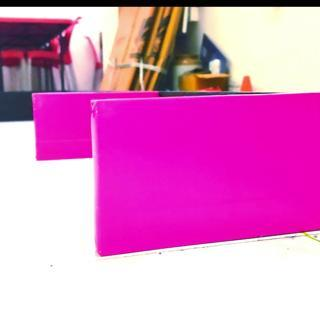xparking: (93, 101, 320, 246), (31, 91, 89, 163)
